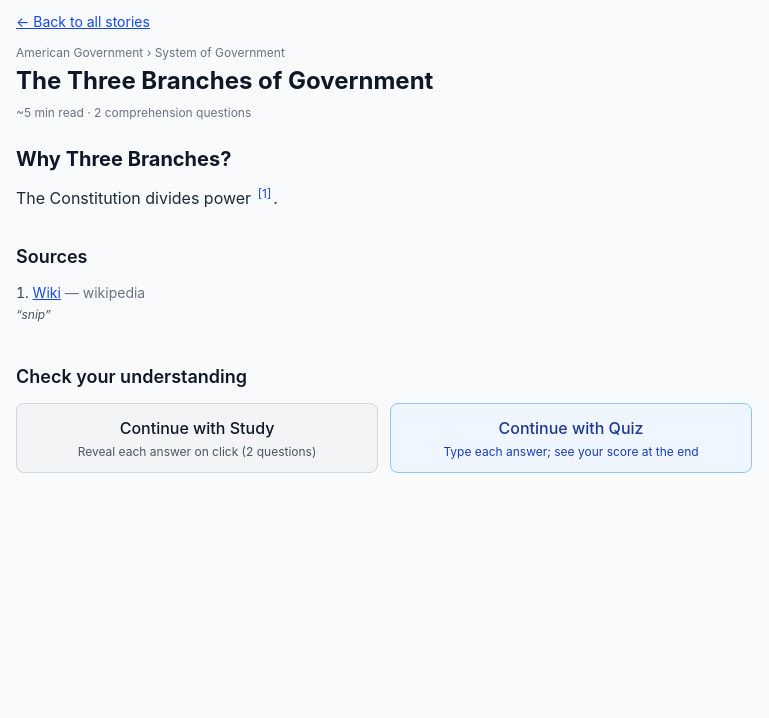
Test: StoryPage › Continue with Quiz renders QuizCard in typed mode (quiz-answer-input present)
Click the button with test id "continue-with-quiz" at (571, 438), box [390,403,752,473]
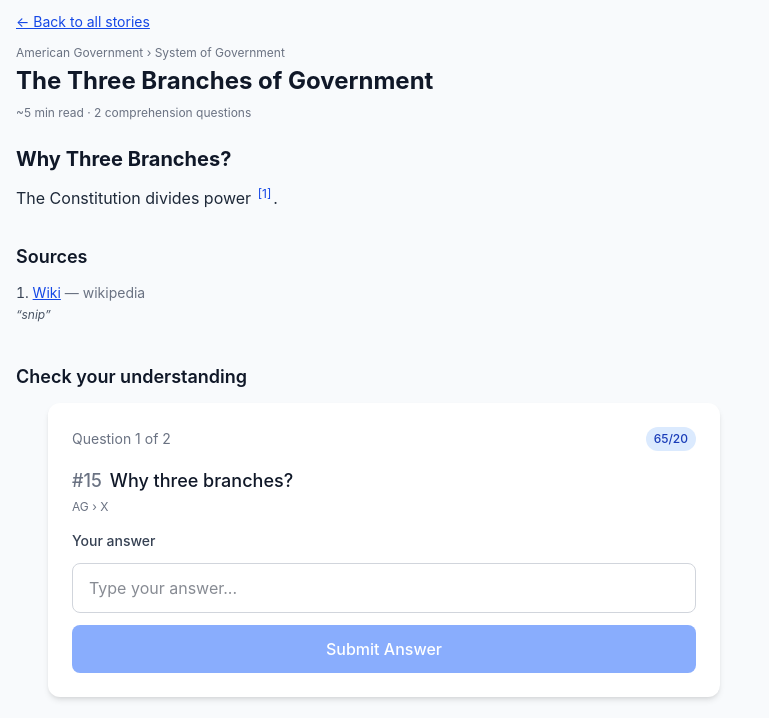
Expected: the field with test id "quiz-answer-input" is shown, [72,563,696,613]
